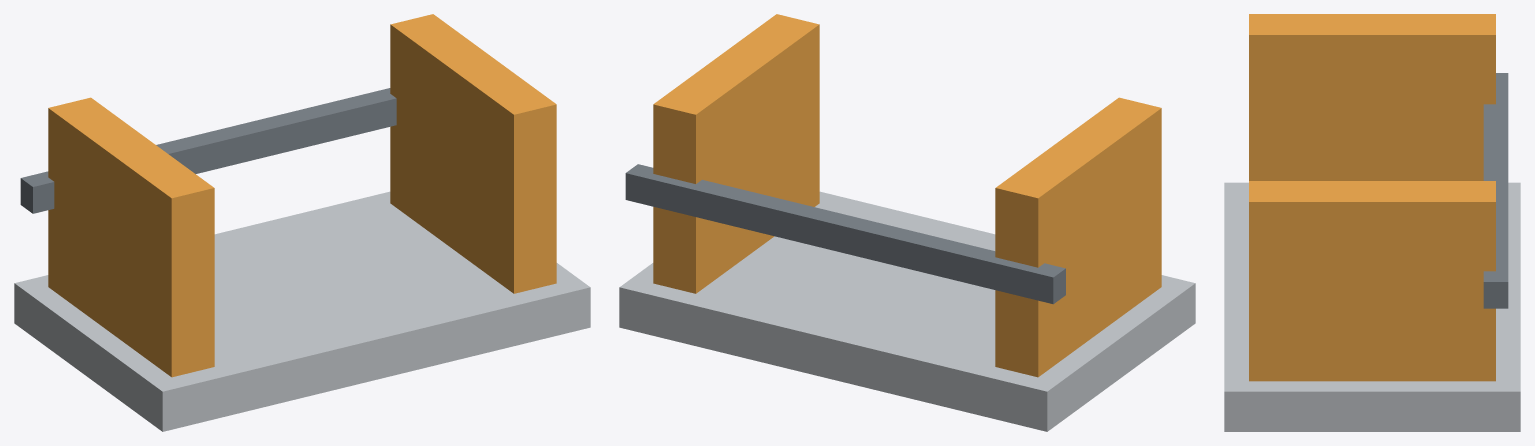
File: mech-hangar-and-battle-frames-transport-cradle-288b3f32__26970.glb
3 renders of one model, left to right at view 1: azimuth 30°, elevation 25°; view 2: azimuth 150°, elevation 25°; view 3: azimuth 270°, elevation 25°, orthographic.
Visible parts, largest first — view 1: transport-cradle; view 2: transport-cradle; view 3: transport-cradle.
Part boxes in pixels (x1=…): transport-cradle: x1=14, y1=14, x2=590, y2=431; transport-cradle: x1=619, y1=14, x2=1195, y2=431; transport-cradle: x1=1224, y1=14, x2=1520, y2=431.
Bounding box in the file's own units: 2 × 0.9799 × 1.2.
